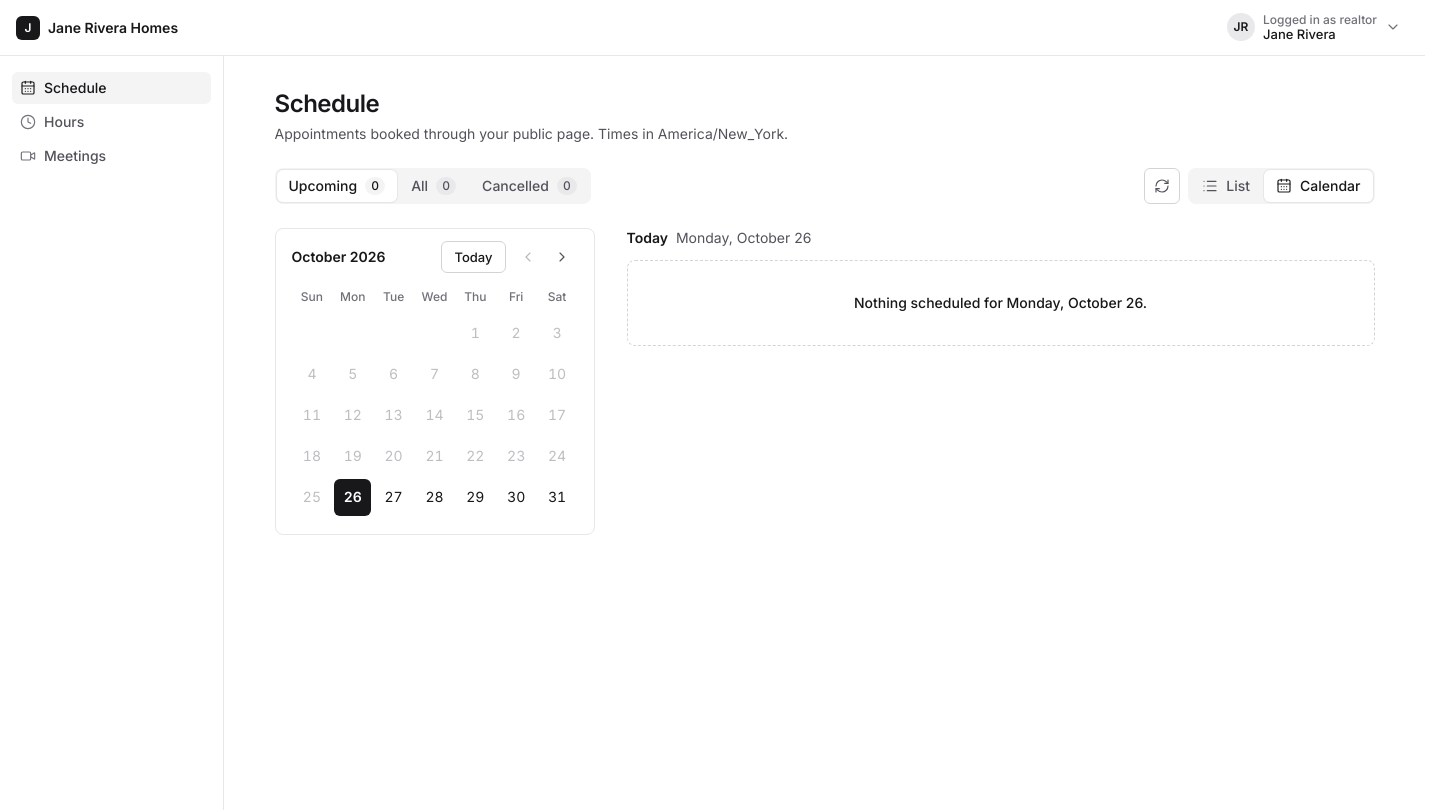
Scenario: App routes › opens the dashboard for a realtor and logs out
The image size is (1440, 810).
Expected: the link "J Jane Rivera Homes" is shown, [12,10,186,46]
Expected: the heading "Schedule" is shown, [274,89,379,118]
Step 1. Click the button "JR Logged in as realtor Jane Rivera" → (1316, 28), box [1223,8,1409,46]
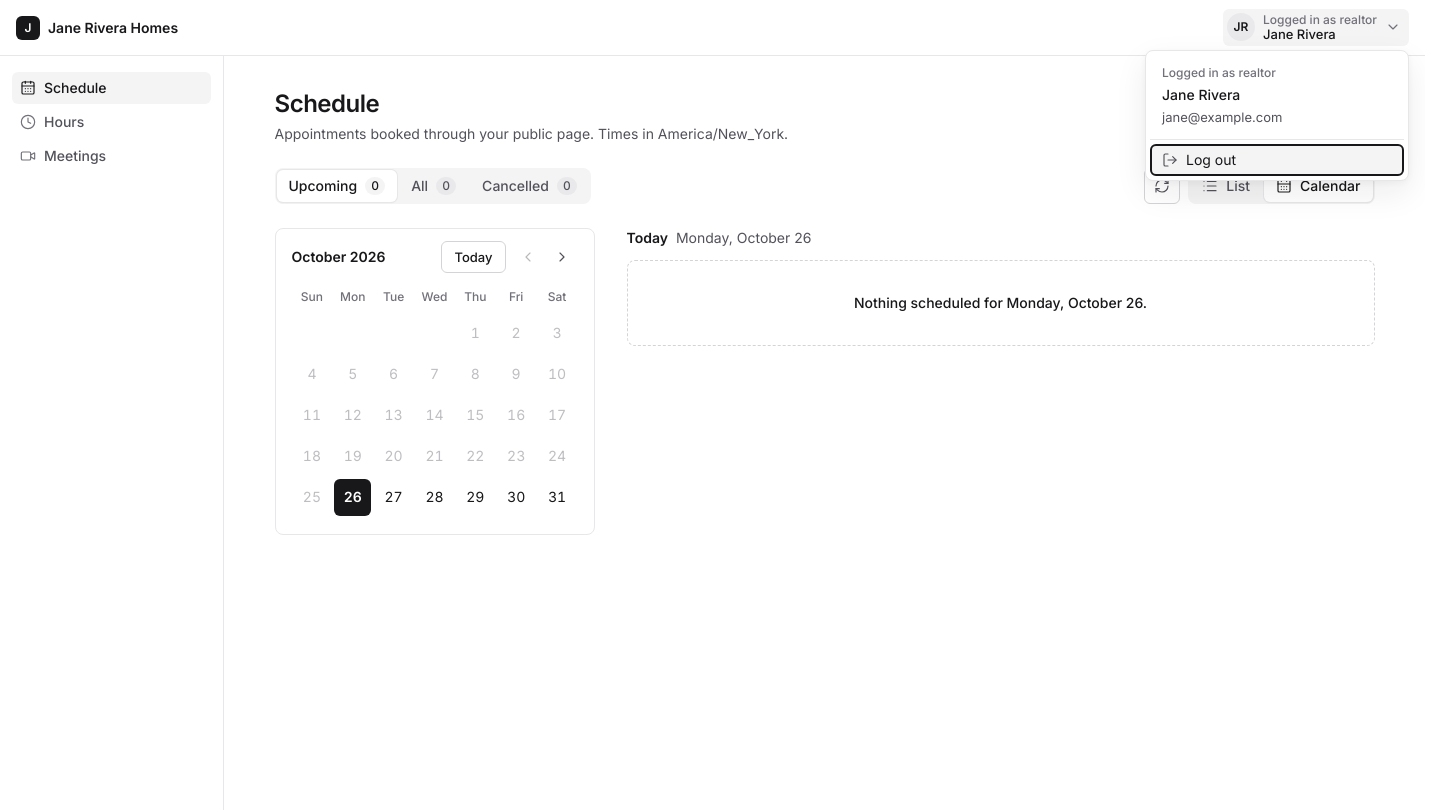
Step 2. Click the menu item "Log out" → (1277, 160), box [1150,144,1404,176]
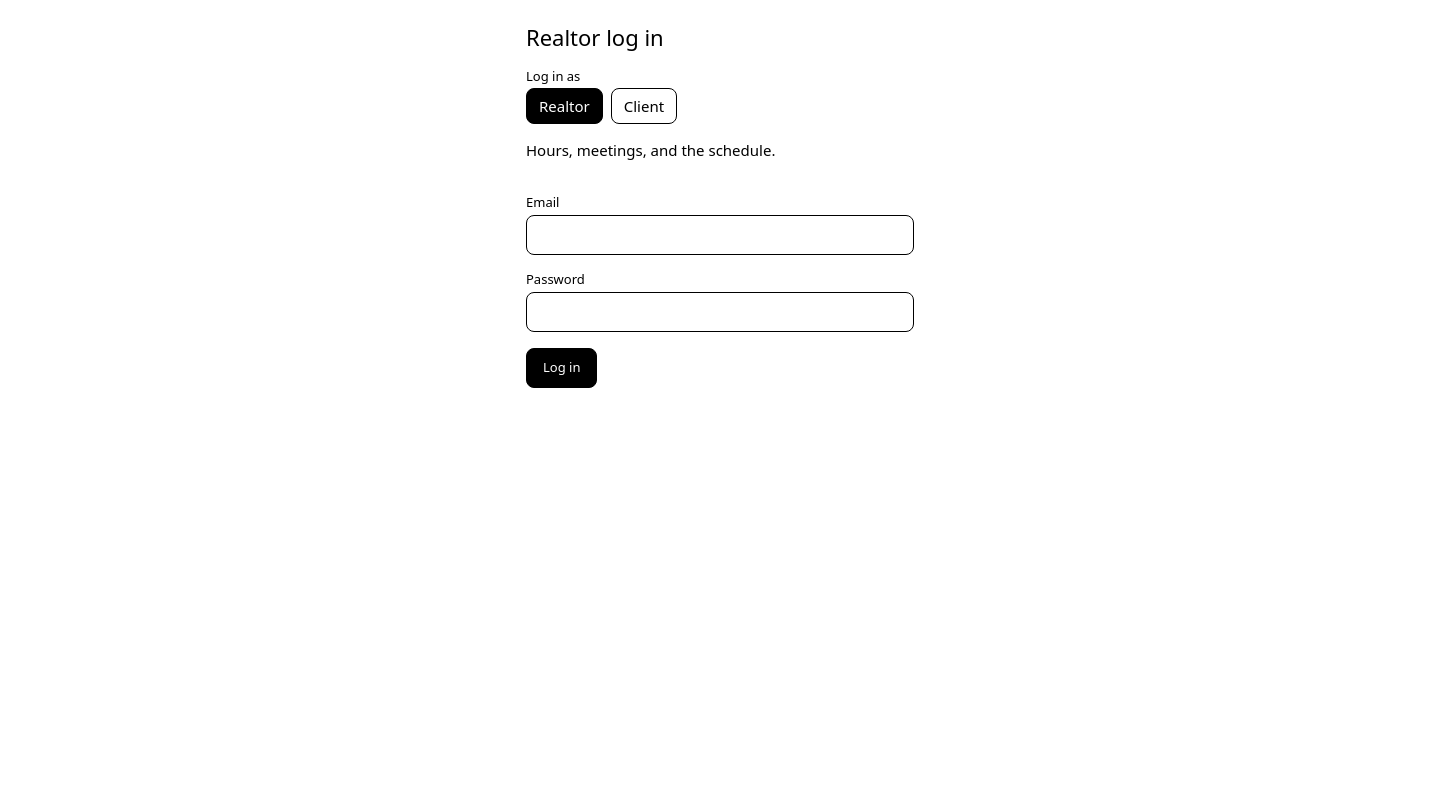
Expected: the heading "Realtor log in" is shown, [526,22,664,52]
